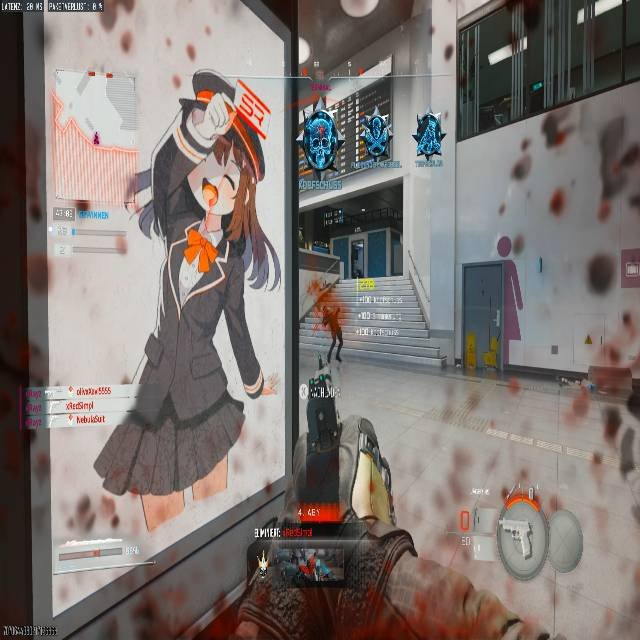head: (180, 69, 238, 137), (540, 111, 575, 148)
player: (126, 68, 272, 390), (496, 105, 636, 365), (306, 277, 347, 369), (411, 109, 443, 163), (320, 305, 344, 364)
